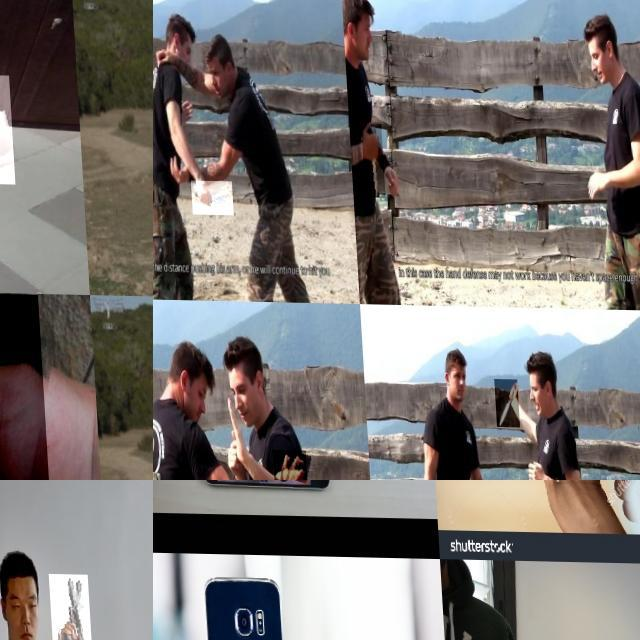-: (0, 289, 141, 480), (0, 71, 83, 183), (360, 122, 383, 197), (188, 180, 231, 214), (266, 449, 304, 480), (490, 377, 514, 425)
gun-knife-thesis - v11 Yolov5 augmented: (47, 571, 90, 640)
